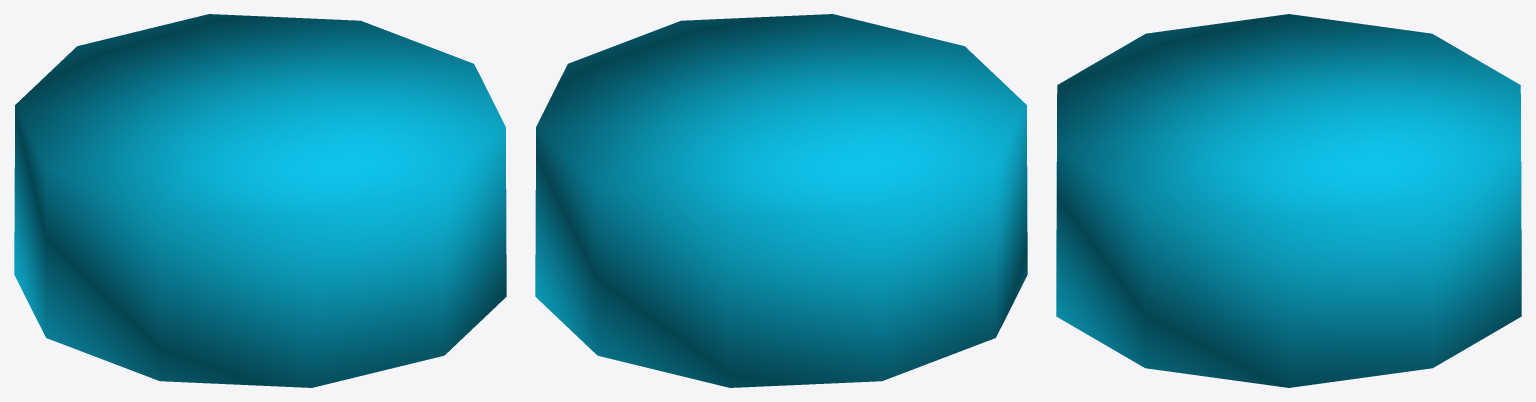
File: Canned_Food_02_Lod1.fbx
The picture shows the model from 3 angles, left to right: view 1: azimuth 30°, elevation 25°; view 2: azimuth 150°, elevation 25°; view 3: azimuth 270°, elevation 25°; orthographic projection.
Parts seen in each view (by area): view 1: Canned_Food_02_Lod1; view 2: Canned_Food_02_Lod1; view 3: Canned_Food_02_Lod1.
Part boxes in pixels (x1,y1,x2,y2): Canned_Food_02_Lod1: (14,14,506,387); Canned_Food_02_Lod1: (535,14,1027,387); Canned_Food_02_Lod1: (1056,14,1521,387).
Bounding box in the file's own units: 11.62 × 4.39 × 11.05.
